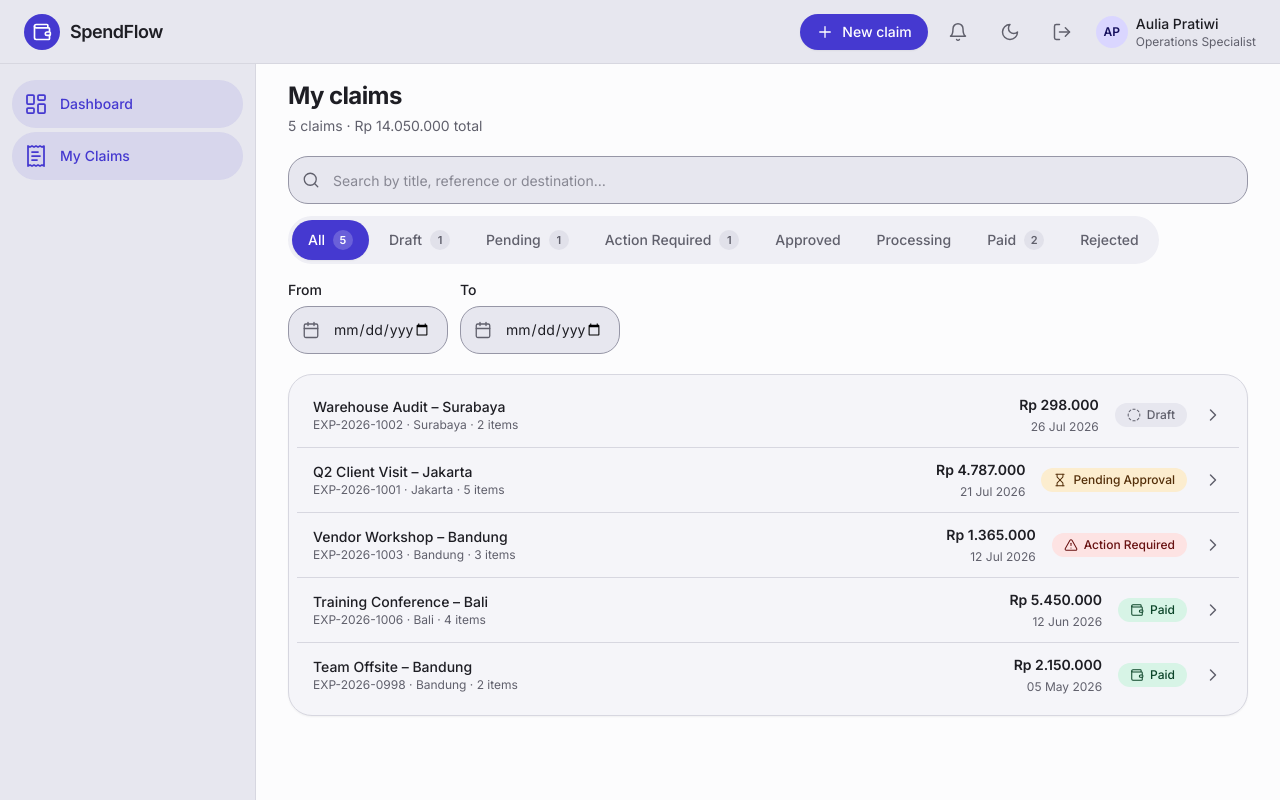
Test case: Claim list — empty state & clear filters › shows a no-match empty state with a Clear filters action, then restores results
Expected: the text "Q2 Client Visit – Jakarta" is shown, [313,463,473,480]
# The employee has no rejected claims → no matches.
What coordinates should you click on to do the following:
click the tab "Rejected"
I would click on:
 (1109, 240)
Its box is [1064,220,1155,260].
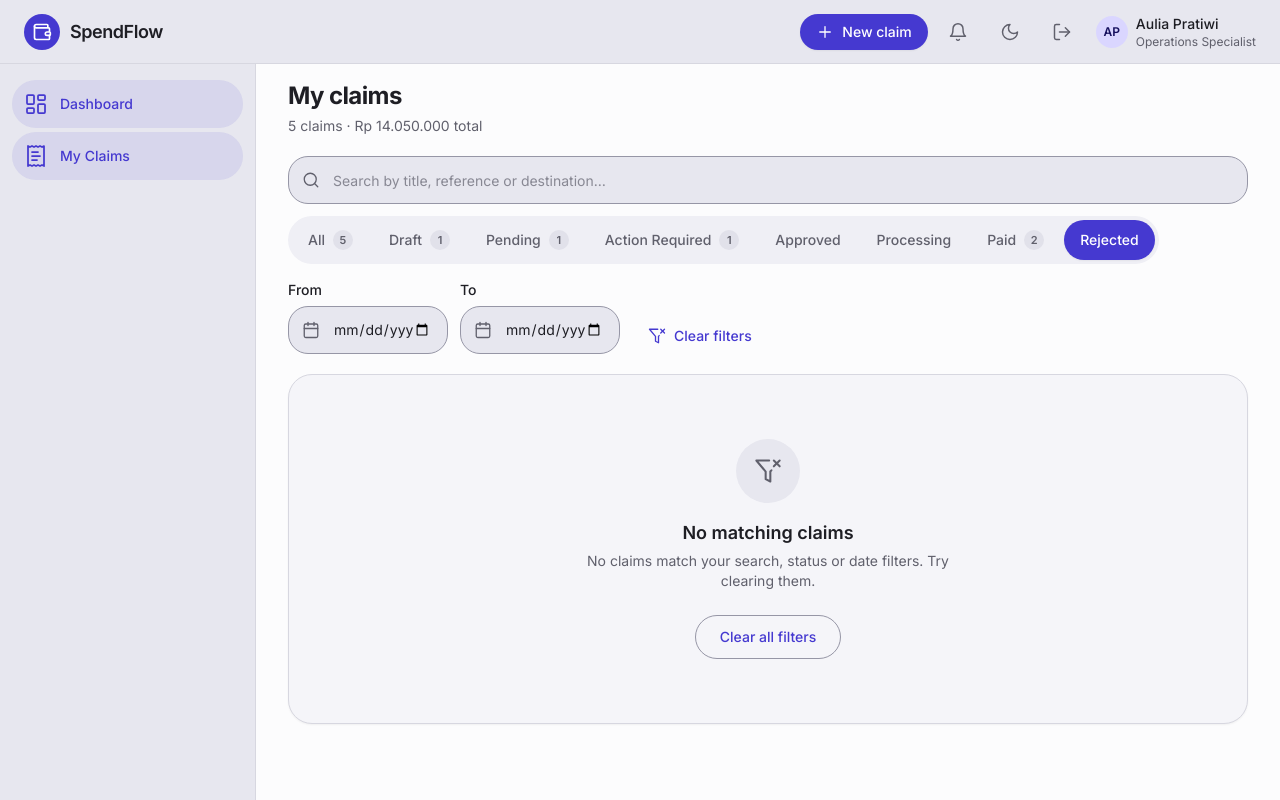
Expected: the heading "No matching claims" is shown, [682,519,854,547]
What coordinates should you click on to do the following:
click the button "Clear all filters"
I would click on:
 (768, 637)
Its box is [695,615,841,659].
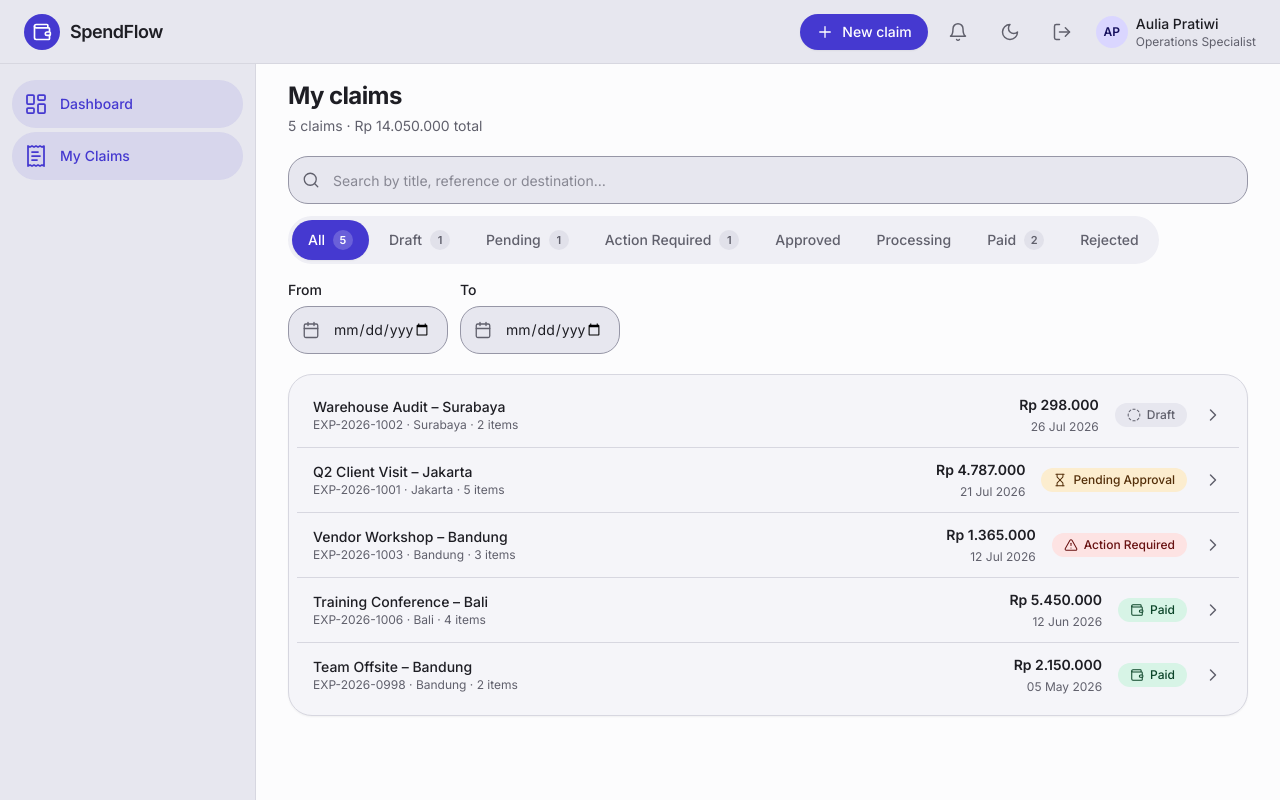
Expected: the text "Q2 Client Visit – Jakarta" is shown, [313,463,473,480]
